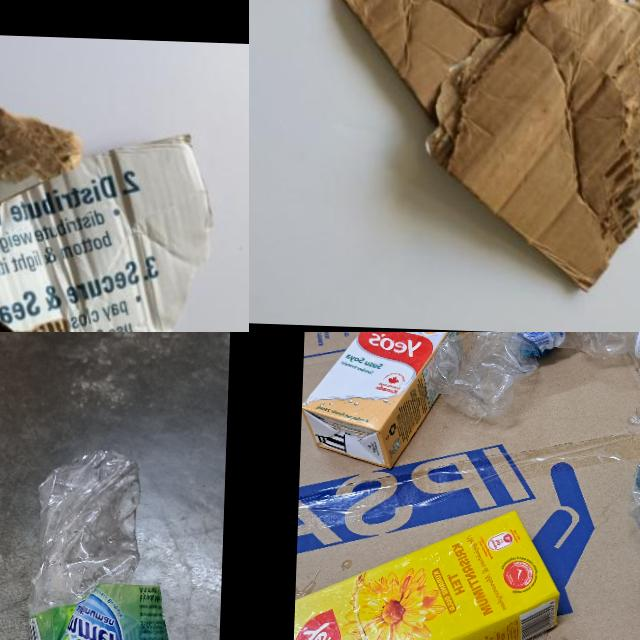caixinha: (290, 501, 562, 640), (299, 332, 474, 472)
garrafa plástica: (19, 445, 185, 640), (433, 332, 640, 427)
papelão: (290, 332, 640, 640), (325, 0, 640, 296), (0, 65, 219, 332)
